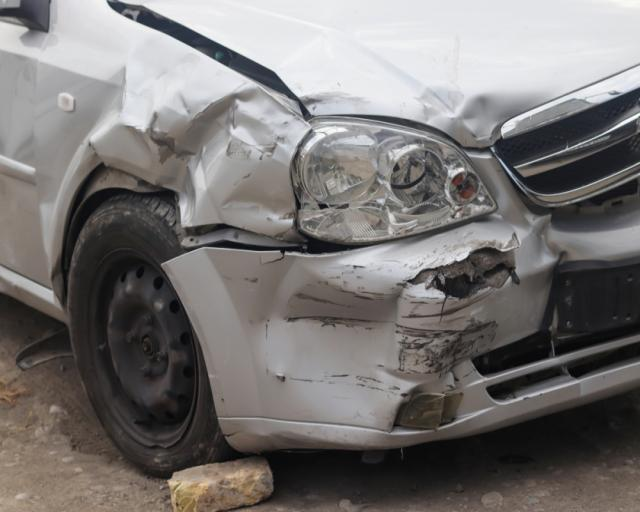crack: (402, 245, 517, 326), (258, 251, 286, 265)
dent: (37, 39, 313, 272), (237, 258, 400, 412), (303, 84, 546, 139), (524, 217, 583, 271)
lamp broken: (295, 117, 498, 244)
scratch: (391, 281, 506, 381)
